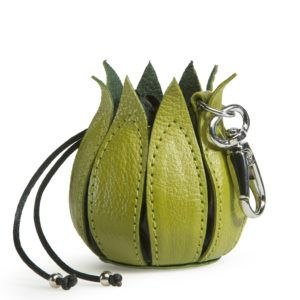cuero: (69, 60, 247, 265)
